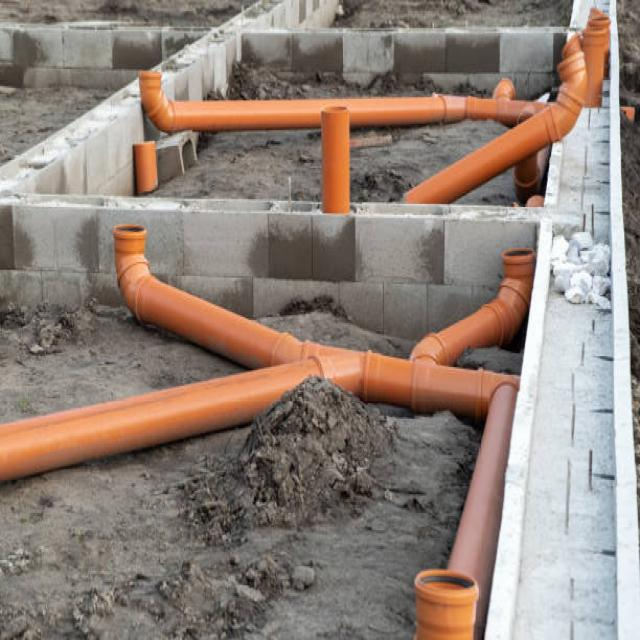Plumbing and Electrical: (93, 53, 571, 600)
